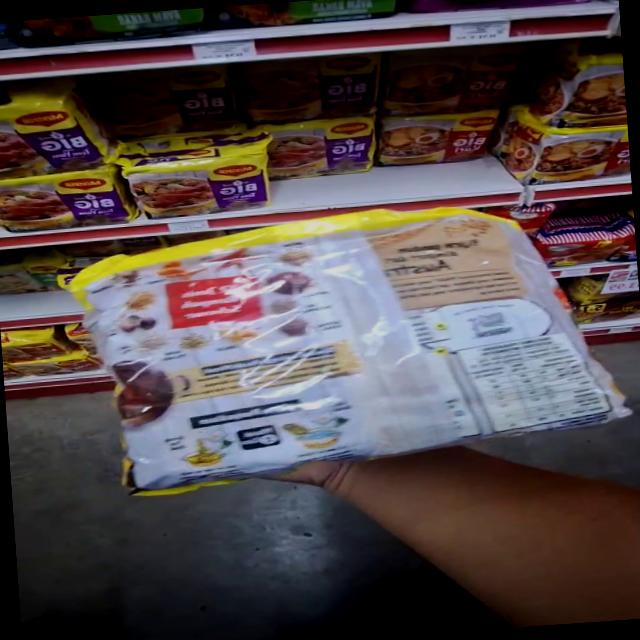Maggi: (71, 195, 570, 504)
